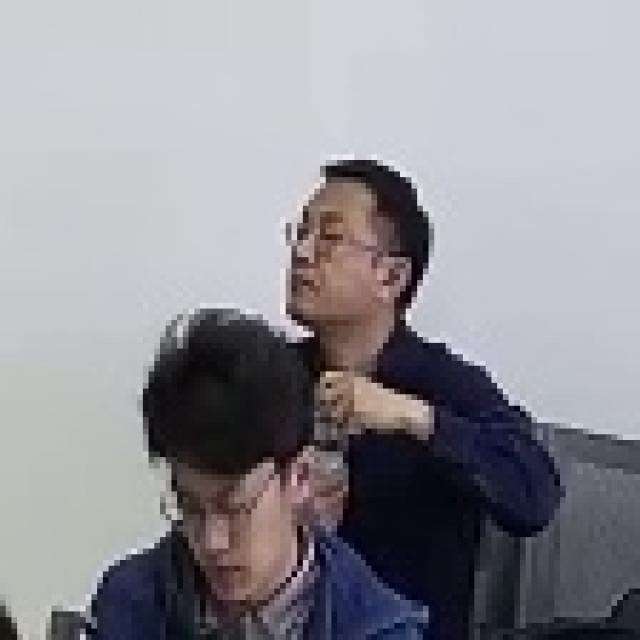drink: (266, 157, 565, 619)
trance: (69, 297, 314, 640)
